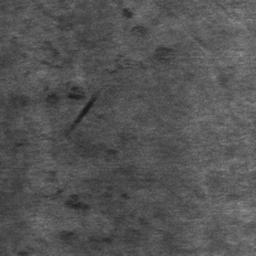Rolled in scale: (0, 82, 149, 251), (1, 5, 73, 77), (104, 47, 175, 91), (123, 8, 146, 35), (182, 194, 205, 219), (18, 238, 48, 256), (163, 4, 194, 18), (133, 173, 156, 189), (221, 0, 246, 10), (178, 250, 196, 256)
